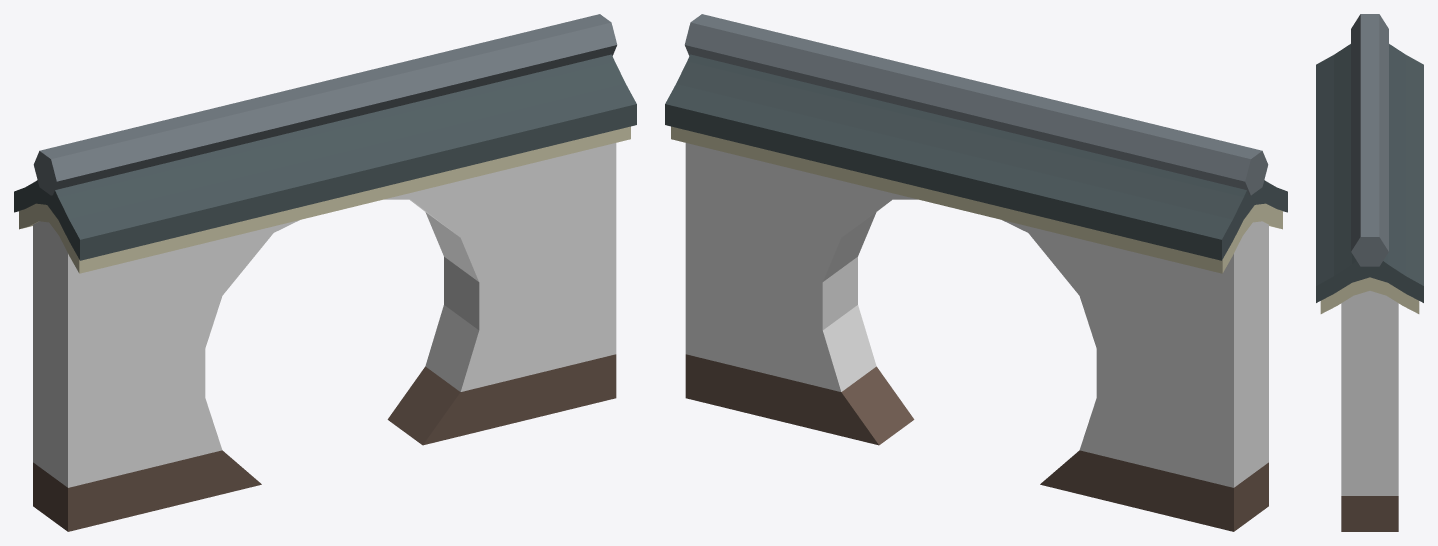
Rendered from wall-gate.glb.
The picture shows the model from 3 angles, left to right: view 1: azimuth 30°, elevation 25°; view 2: azimuth 150°, elevation 25°; view 3: azimuth 270°, elevation 25°; orthographic projection. The views are drawn at different scales.
Visible parts, largest first — view 1: OWnG_wallWithRoundGate_01; view 2: OWnG_wallWithRoundGate_01; view 3: OWnG_wallWithRoundGate_01.
Part boxes in pixels (box(x1,y1,x2,y2)): OWnG_wallWithRoundGate_01: box(14, 14, 636, 531); OWnG_wallWithRoundGate_01: box(665, 14, 1287, 531); OWnG_wallWithRoundGate_01: box(1316, 14, 1423, 531).
Bounding box in the file's own units: 8.92 × 5.55 × 1.82.
